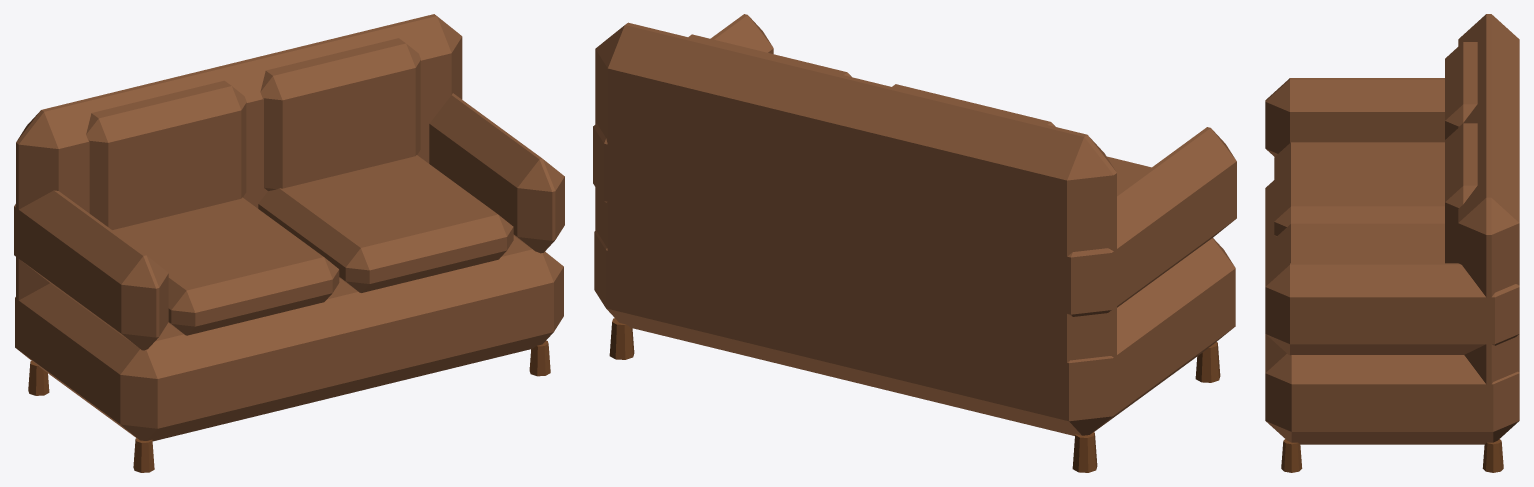
File: BrownSofa.fbx
3 views of the same model, side by side, from view 1: azimuth 30°, elevation 25°; view 2: azimuth 150°, elevation 25°; view 3: azimuth 270°, elevation 25° (orthographic). The views are drawn at different scales.
Parts seen in each view (by area): view 1: BrownSofa; view 2: BrownSofa; view 3: BrownSofa.
Boxes of the visible parts, bbox=[...] form: BrownSofa: bbox=[14, 14, 564, 472]; BrownSofa: bbox=[593, 14, 1236, 472]; BrownSofa: bbox=[1265, 14, 1519, 472].
Size of the model in its own units: 5.6 by 3.4 by 2.9.
Materials: 1 (1 with a texture image).
